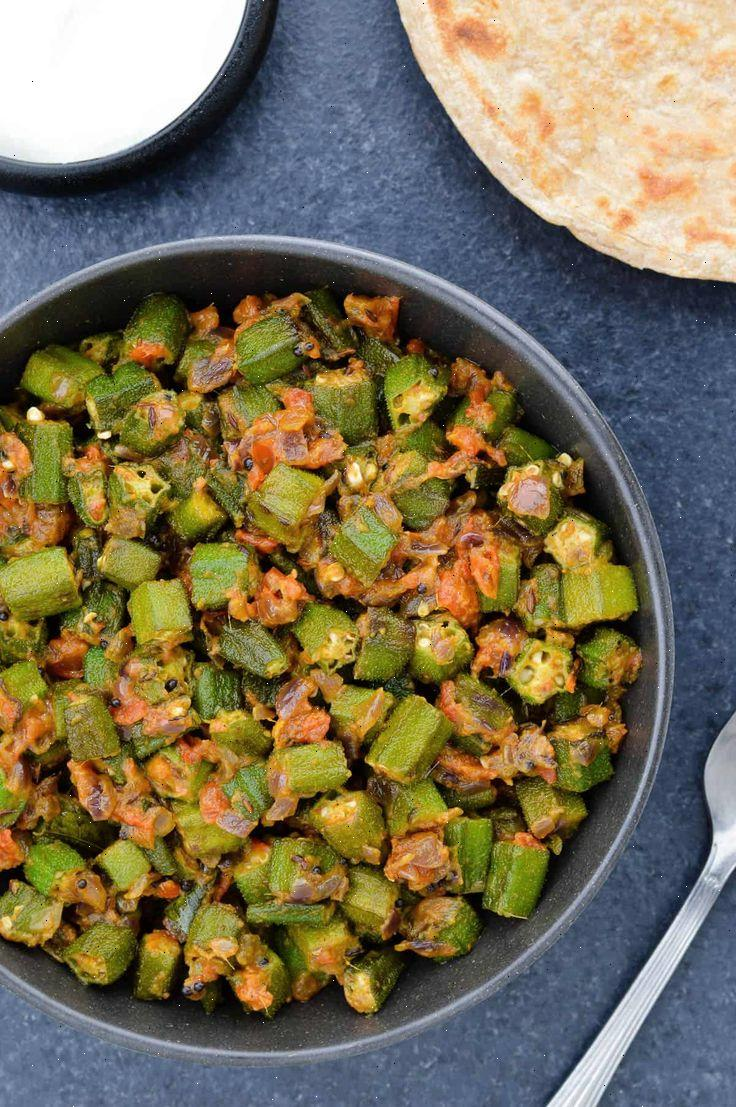bhindi: (2, 364, 495, 993)
